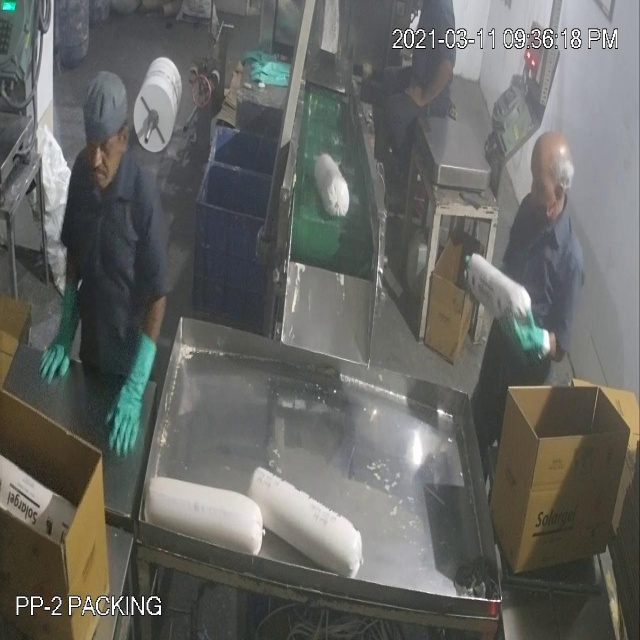Guantes: (97, 330, 170, 466), (41, 284, 89, 394)
Sin_guantes: (398, 51, 457, 127)
